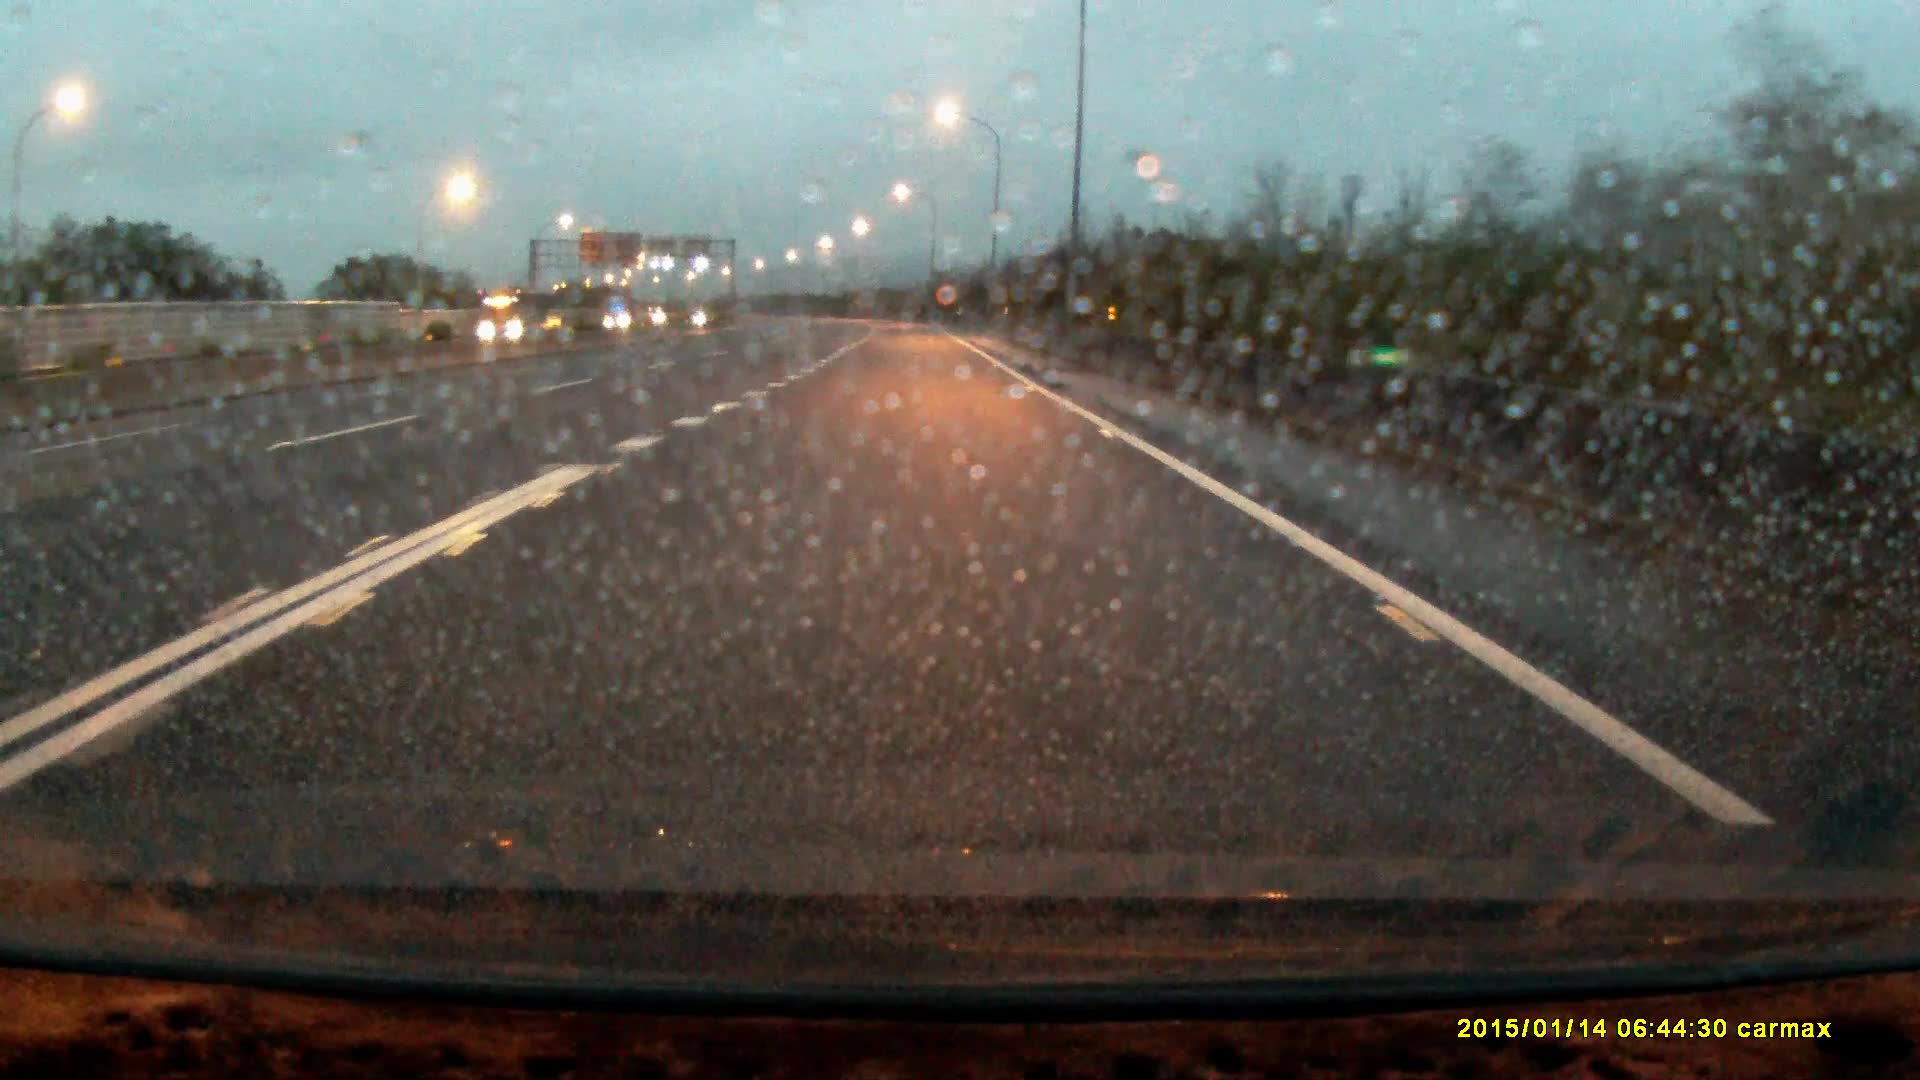vehicle: (480, 298, 550, 343)
